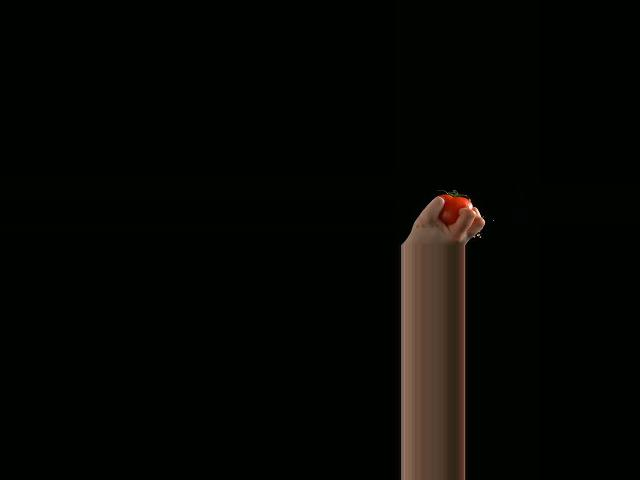tomato: (438, 194, 472, 225)
